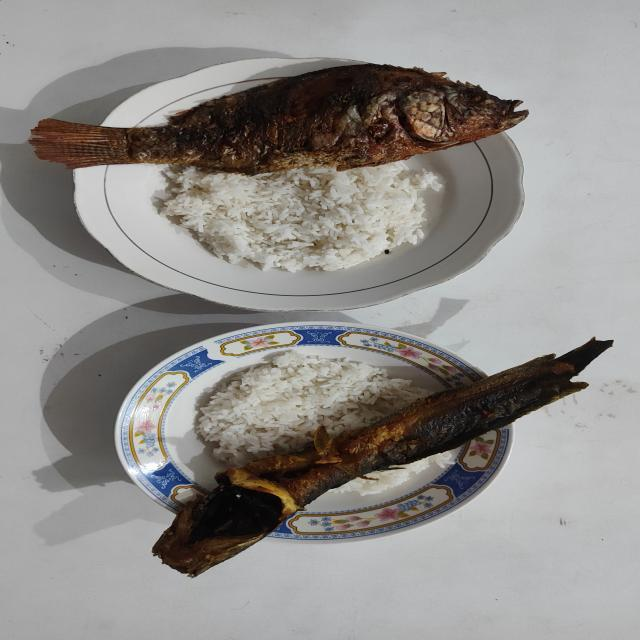ikan_mujair: (29, 64, 528, 175)
nasi_putih: (154, 161, 440, 272), (195, 351, 428, 466), (328, 449, 459, 496)
